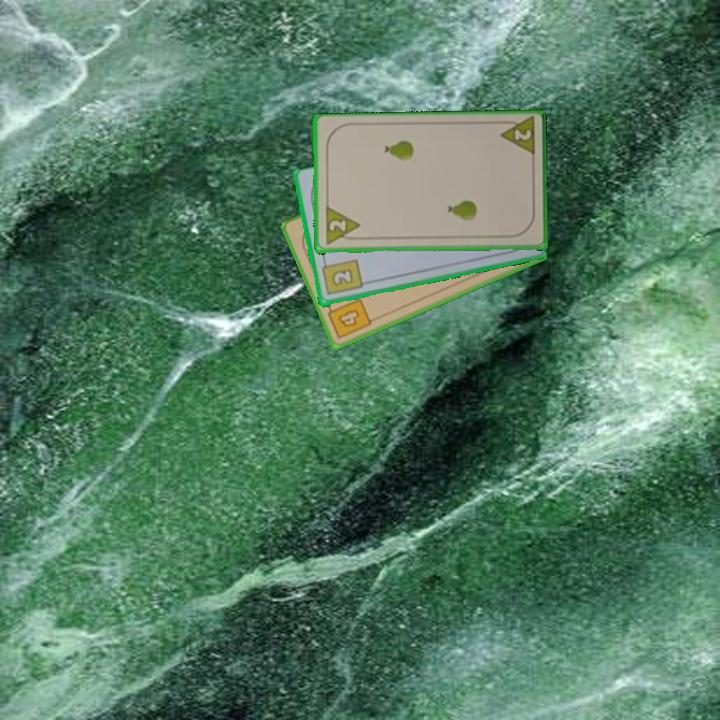2b: (318, 256, 365, 298)
2p: (496, 115, 538, 159), (322, 204, 363, 248)
4b: (323, 295, 374, 342)
